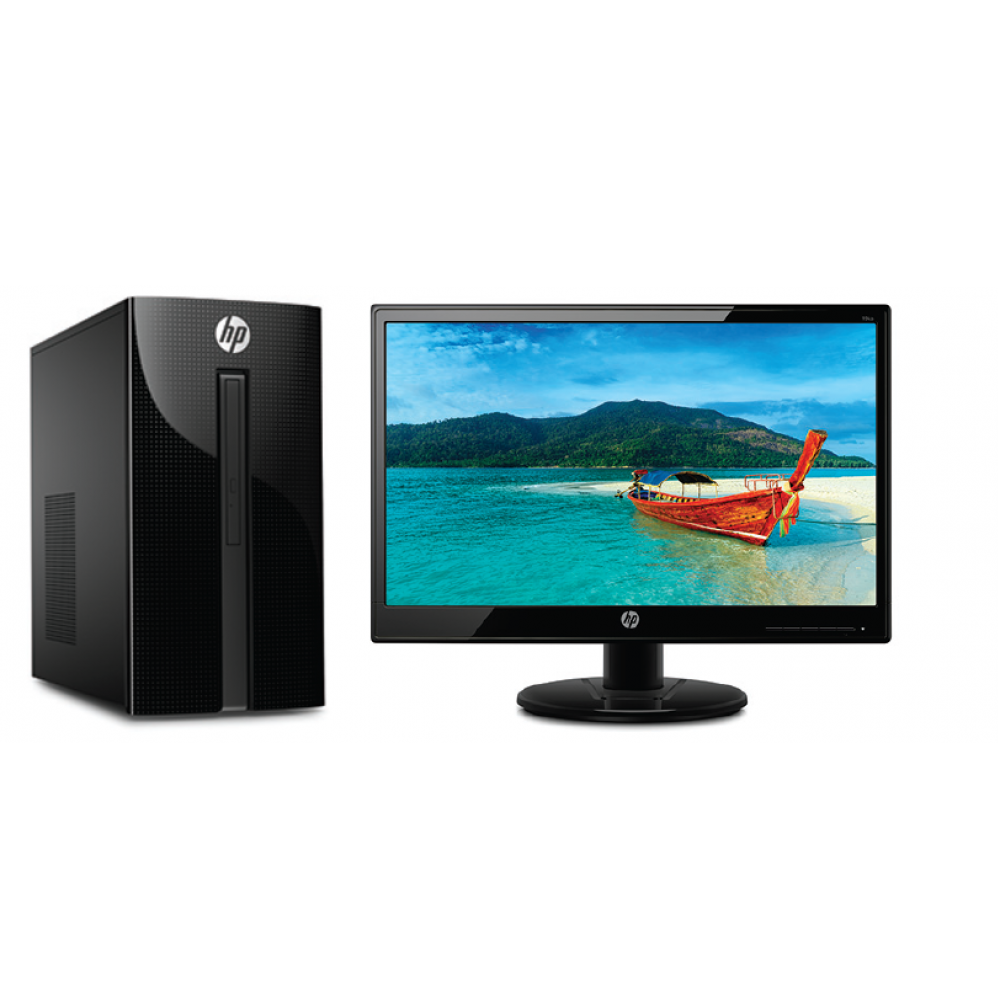hp-monitor-19ka: (369, 303, 906, 728)
